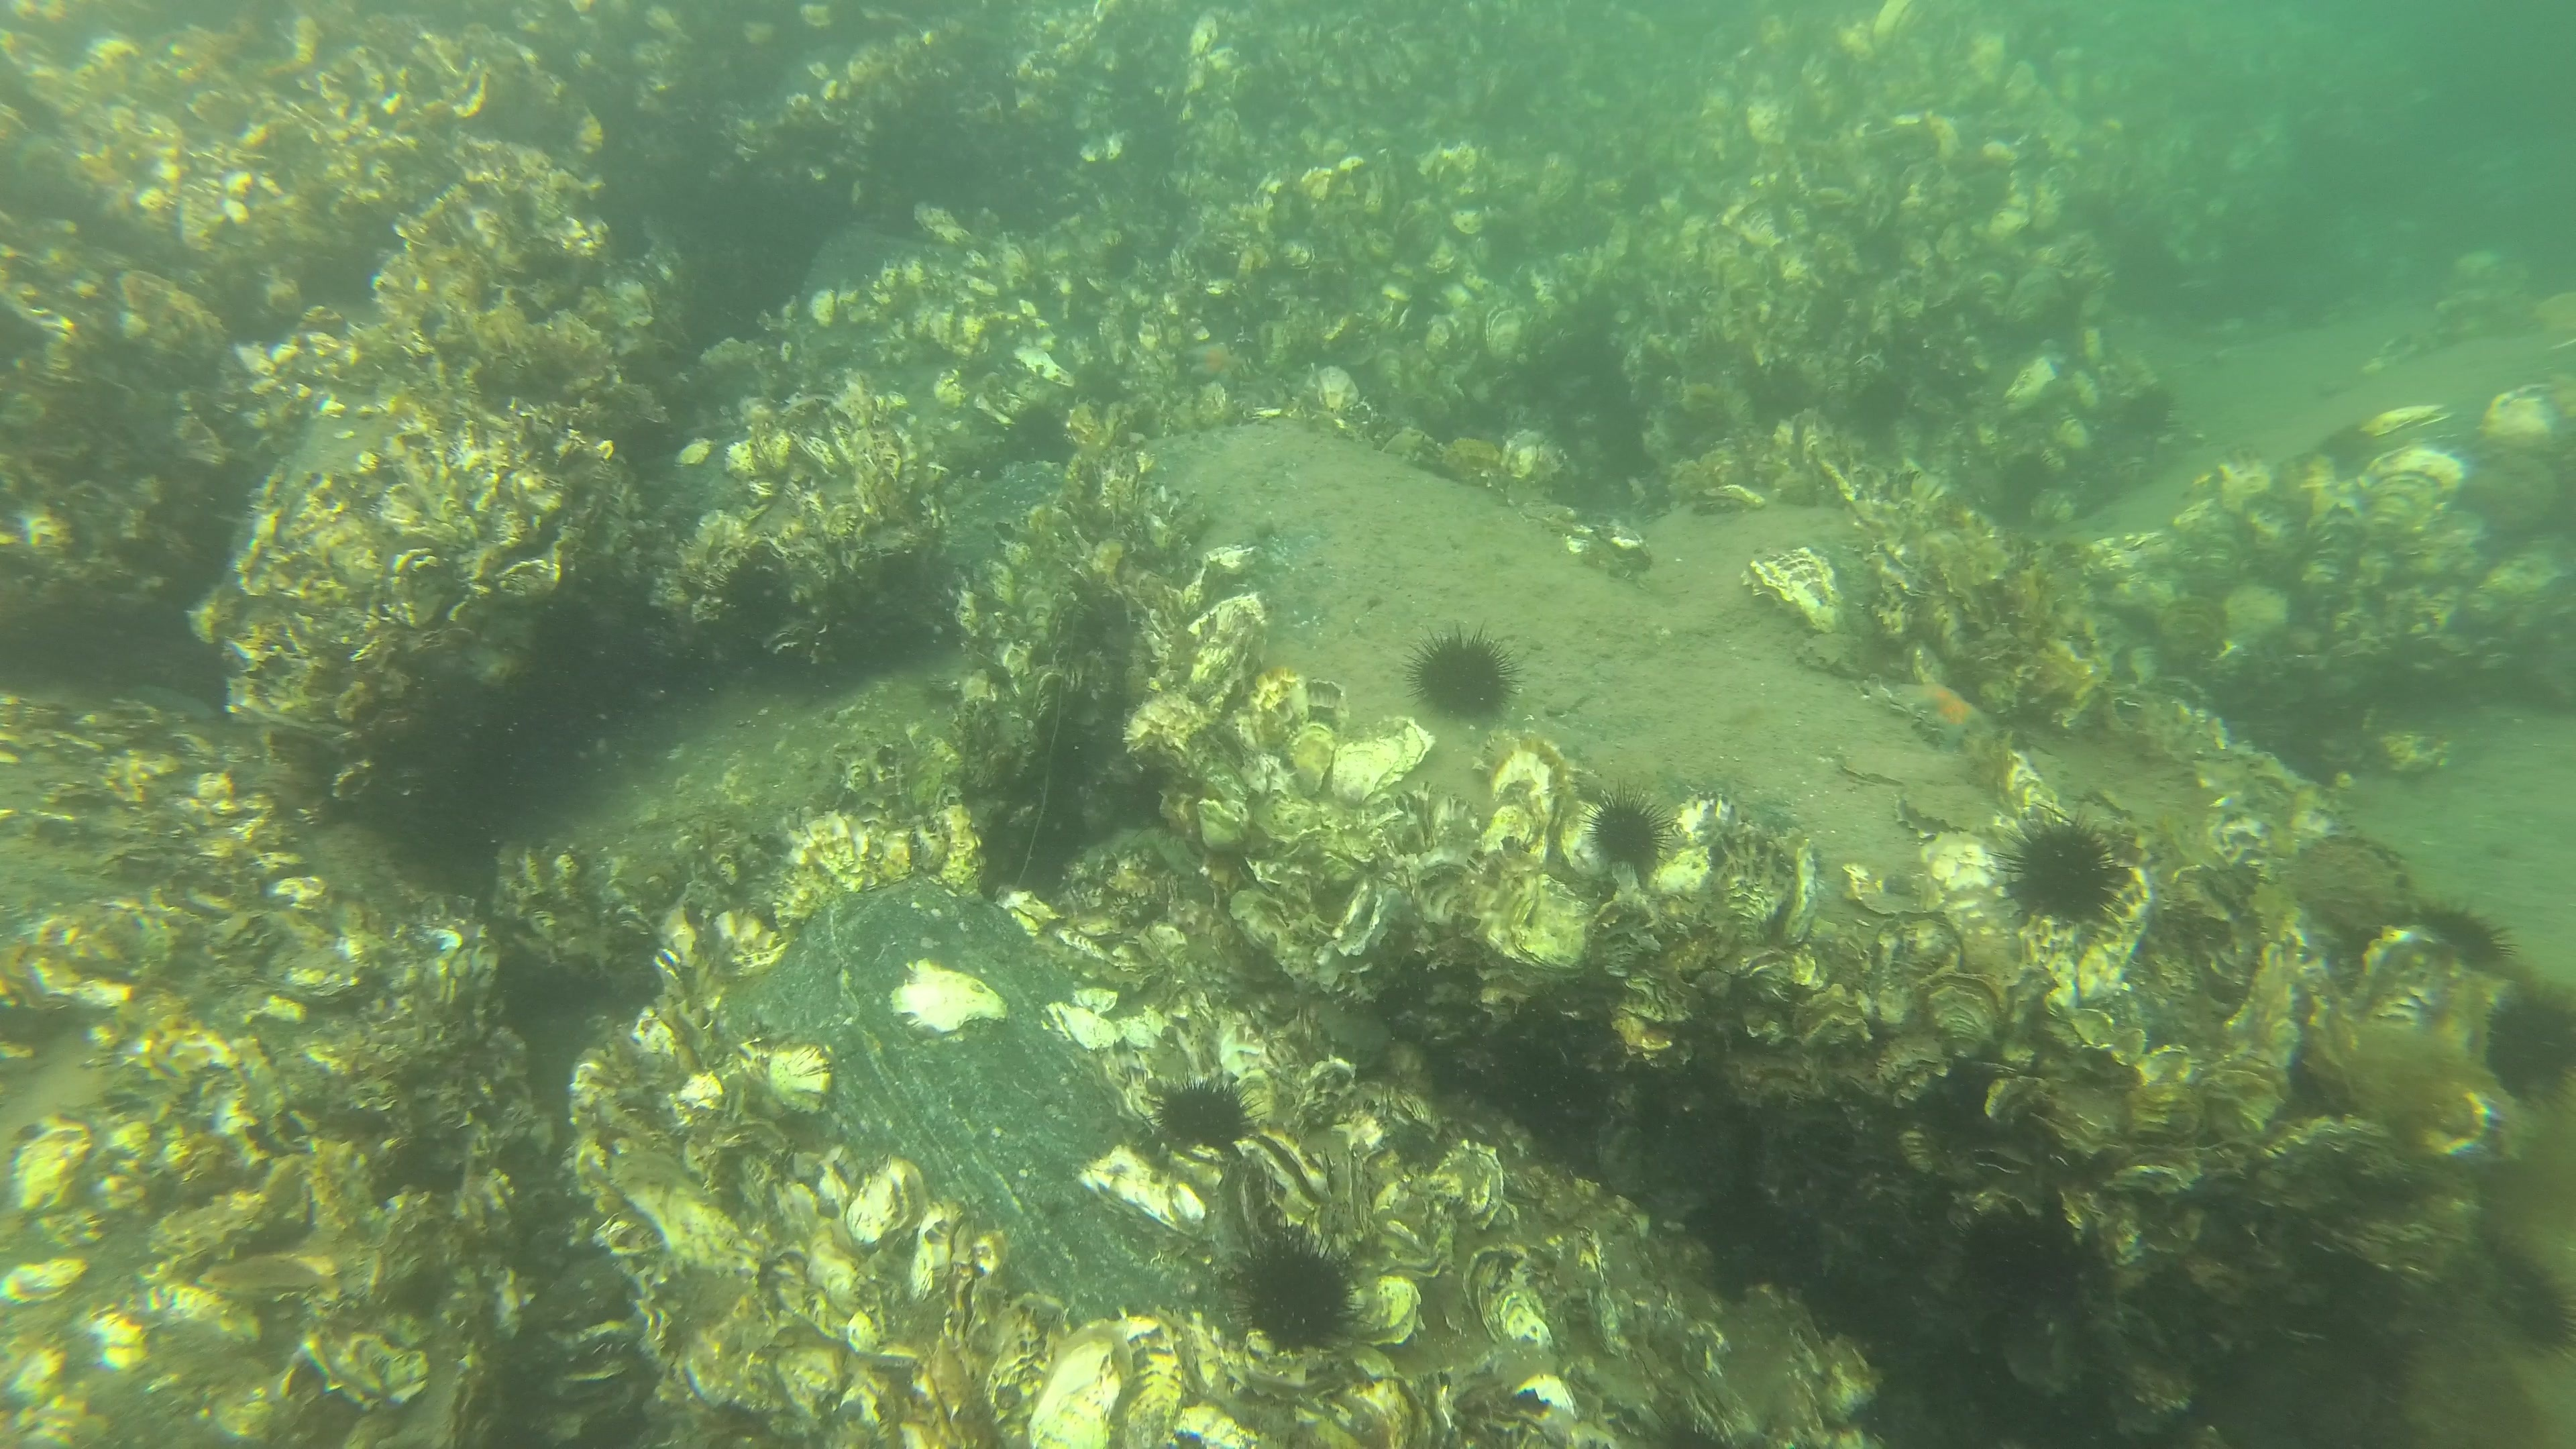echinus: (1221, 1210, 1375, 1366), (1989, 809, 2141, 941), (1136, 1065, 1274, 1166), (1407, 616, 1525, 729), (2406, 886, 2521, 991), (1580, 775, 1674, 878)
starfish: (1863, 662, 2006, 757)
